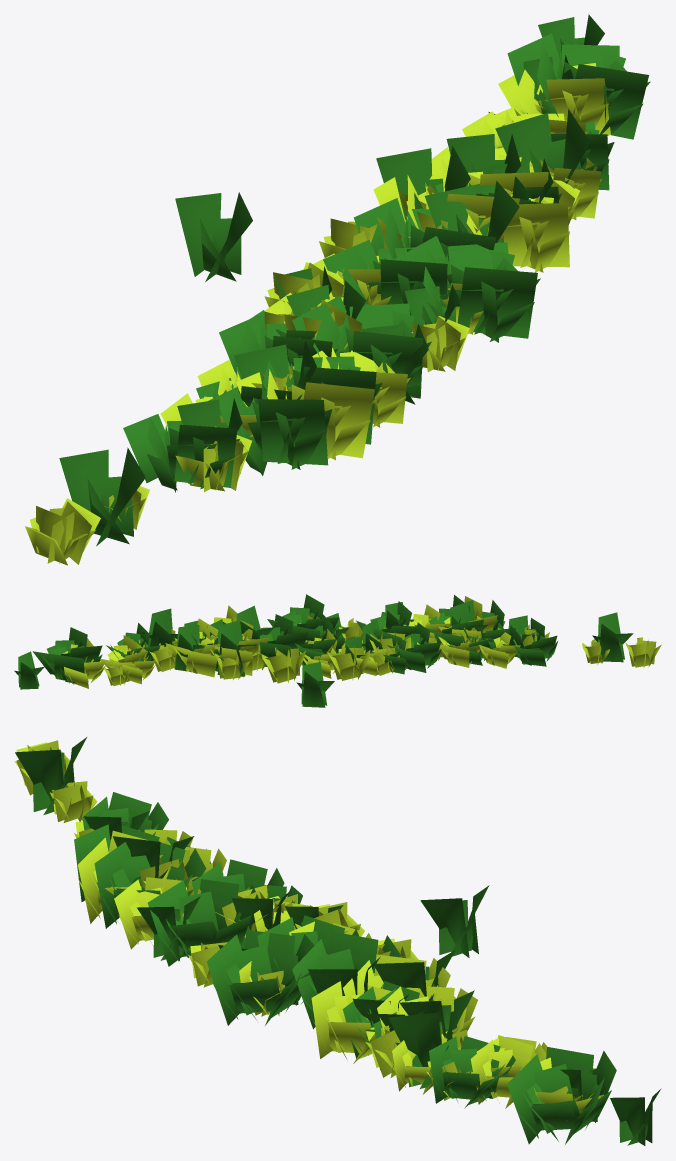
File: Plants_Free9.fbx
3 views of the same model, one above another, from view 1: azimuth 30°, elevation 25°; view 2: azimuth 150°, elevation 25°; view 3: azimuth 270°, elevation 25° (orthographic). The views are drawn at different scales.
Visible parts, largest first — view 1: Grass_jumbled_Low_Spread.129, Grass_jumbled_Low_Spread.139, Grass_jumbled_Low_Spread.123, Grass_jumbled_Low_Spread.121, Grass_jumbled_Low_Spread.125, Grass_jumbled_Low_Spread_1.119, Grass_jumbled_Low_Spread_1.124, Grass_jumbled_Low_Dense_1.129, Grass_jumbled_Low_Dense_1.123, Grass_jumbled_Low_Spread.130, Grass_jumbled_Low_Dense_1.139, Grass_jumbled_Low_Spread_1.133 (+27 smaller); view 2: Grass_jumbled_Low_Spread.139, Grass_jumbled_Low_Dense_1.134, Grass_jumbled_Low_Spread.129, Grass_jumbled_Low_Spread.127, Grass_jumbled_Low_Spread.124, Grass_jumbled_Low_Spread_1.119, Grass_jumbled_Low_Spread.121, Grass_jumbled_Low_Spread_1.124, Grass_Jumbled_Low_Dense.379, Grass_jumbled_Low_Spread.125, Grass_jumbled_Low_Dense_1.128, Grass_Jumbled_Low_Dense.369 (+37 smaller); view 3: Grass_jumbled_Low_Spread.139, Grass_jumbled_Low_Spread.129, Grass_jumbled_Low_Spread.125, Grass_jumbled_Low_Spread.126, Grass_jumbled_Low_Spread.132, Grass_jumbled_Low_Spread.127, Grass_jumbled_Low_Dense_1.129, Grass_jumbled_Low_Spread_1.124, Grass_jumbled_Low_Spread_1.119, Grass_jumbled_Low_Spread_1.133, Grass_jumbled_Low_Dense_1.126, Grass_jumbled_Low_Dense_1.132 (+25 smaller).
Boxes of the visible parts, x1,y1,x2,y2 form: Grass_jumbled_Low_Spread.129: (393, 236, 540, 342); Grass_jumbled_Low_Spread.139: (507, 33, 650, 139); Grass_jumbled_Low_Spread.123: (208, 387, 332, 475); Grass_jumbled_Low_Spread.121: (123, 414, 239, 492); Grass_jumbled_Low_Spread.125: (292, 296, 431, 398); Grass_jumbled_Low_Spread_1.119: (59, 447, 145, 546); Grass_jumbled_Low_Spread_1.124: (175, 192, 252, 281); Grass_jumbled_Low_Dense_1.129: (466, 194, 574, 272); Grass_jumbled_Low_Dense_1.123: (236, 369, 375, 460); Grass_jumbled_Low_Spread.130: (323, 240, 451, 331); Grass_jumbled_Low_Dense_1.139: (498, 63, 610, 134); Grass_jumbled_Low_Spread_1.133: (495, 109, 590, 183); Grass_jumbled_Low_Spread.139: (32, 627, 102, 681); Grass_jumbled_Low_Dense_1.134: (165, 618, 220, 677); Grass_jumbled_Low_Spread.129: (267, 594, 339, 640); Grass_jumbled_Low_Spread.127: (242, 614, 308, 666); Grass_jumbled_Low_Spread.124: (387, 622, 441, 672); Grass_jumbled_Low_Spread_1.119: (592, 612, 633, 662); Grass_jumbled_Low_Spread.121: (502, 618, 557, 666); Grass_jumbled_Low_Spread_1.124: (296, 662, 334, 707); Grass_Jumbled_Low_Dense.379: (261, 647, 305, 683); Grass_jumbled_Low_Spread.125: (356, 601, 420, 646); Grass_jumbled_Low_Dense_1.128: (198, 617, 268, 675); Grass_Jumbled_Low_Dense.369: (327, 643, 370, 680); Grass_jumbled_Low_Spread.139: (507, 1047, 616, 1144); Grass_jumbled_Low_Spread.129: (206, 930, 314, 1025); Grass_jumbled_Low_Spread.125: (147, 879, 258, 966); Grass_jumbled_Low_Spread.126: (94, 835, 206, 928); Grass_jumbled_Low_Spread.132: (429, 1036, 515, 1108); Grass_jumbled_Low_Spread.127: (292, 931, 400, 1029); Grass_jumbled_Low_Dense_1.129: (311, 981, 406, 1063); Grass_jumbled_Low_Spread_1.124: (420, 885, 489, 957); Grass_jumbled_Low_Spread_1.119: (15, 737, 86, 814); Grass_jumbled_Low_Spread_1.133: (388, 1005, 466, 1088); Grass_jumbled_Low_Dense_1.126: (114, 877, 201, 949); Grass_jumbled_Low_Dense_1.132: (470, 1035, 546, 1108).
Bounding box in the file's own units: 511 × 52.81 × 370.
